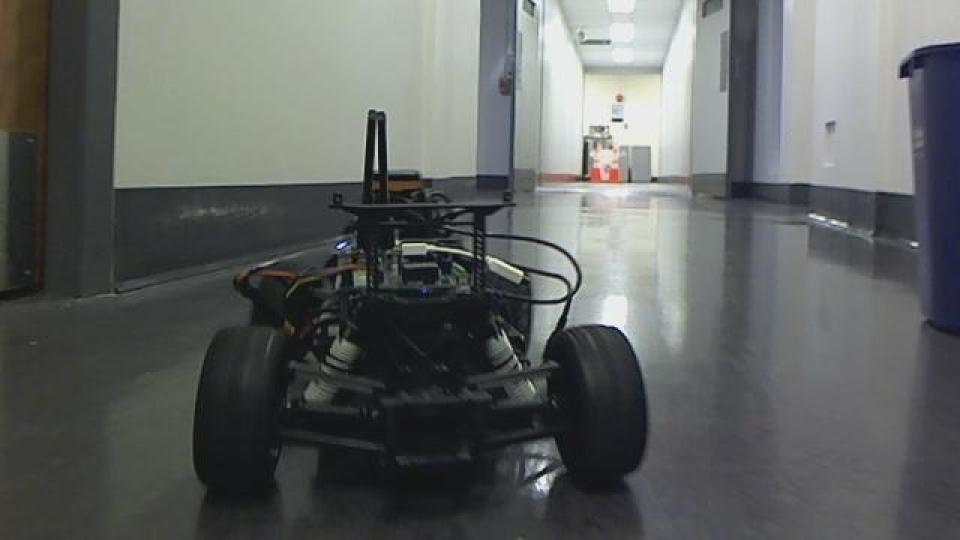car: (187, 97, 651, 508)
